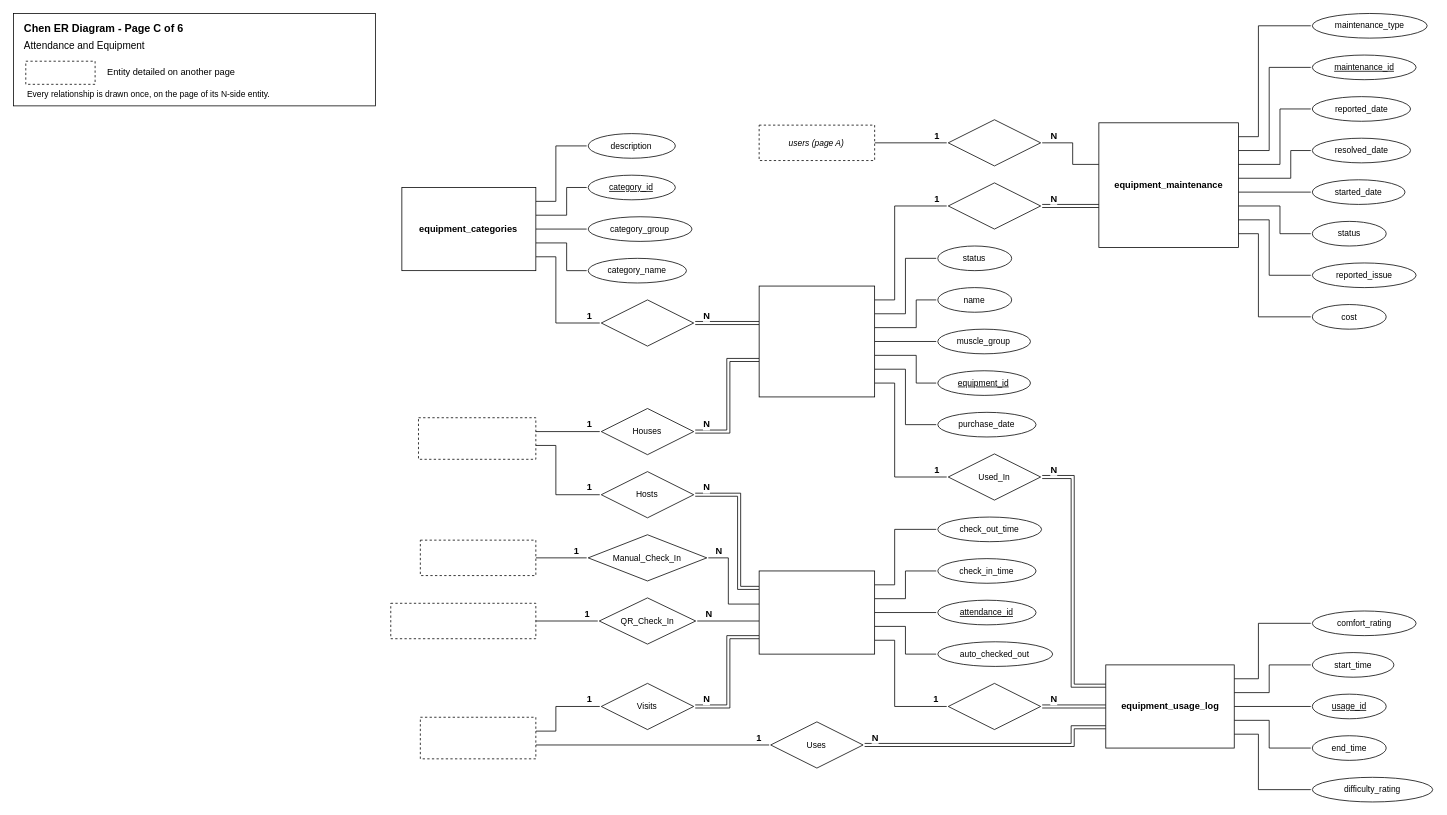
Some shapes in this 1447 by 815 pixel diagram are drawn without their labels. The box of each missing label's shape, as (x1, y1, x2, y2) in pixels:
attendance: (758, 570, 875, 654)
branches (page A): (418, 417, 536, 459)
During: (947, 683, 1041, 730)
equipment: (758, 285, 875, 397)
members (page A): (420, 716, 536, 759)
ref: (25, 60, 95, 84)
Reports: (947, 119, 1041, 166)
Serviced: (947, 182, 1041, 229)
staff (page A): (420, 539, 536, 576)
Type_Of: (601, 299, 694, 346)
user_sessions (page A): (390, 603, 536, 639)
